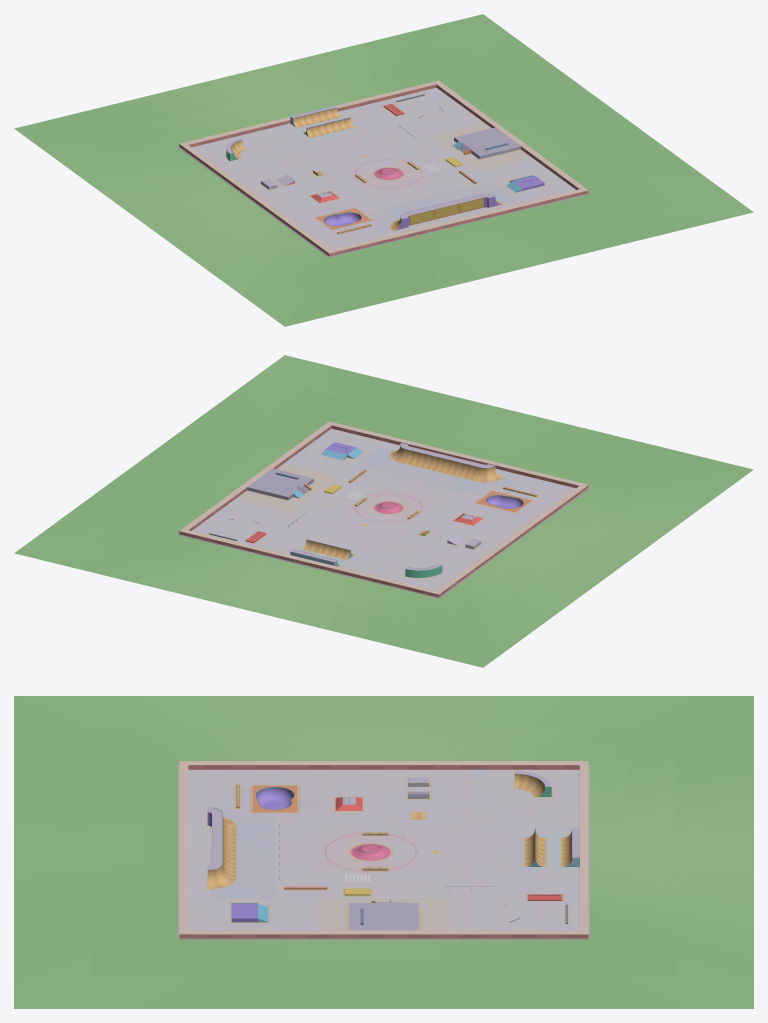
File: plaza.glb
3 renders of one model, top to bottom at view 1: azimuth 30°, elevation 25°; view 2: azimuth 150°, elevation 25°; view 3: azimuth 270°, elevation 25°, orthographic. The views are drawn at different scales.
Parts seen in each view (by area): view 1: park; view 2: park; view 3: park.
Boxes of the visible parts, box(x1,y1,x2,y2) form: park: box(14, 14, 753, 326); park: box(14, 355, 753, 667); park: box(14, 696, 753, 1008).
Bounding box in the file's own units: 170 × 6.05 × 170.
